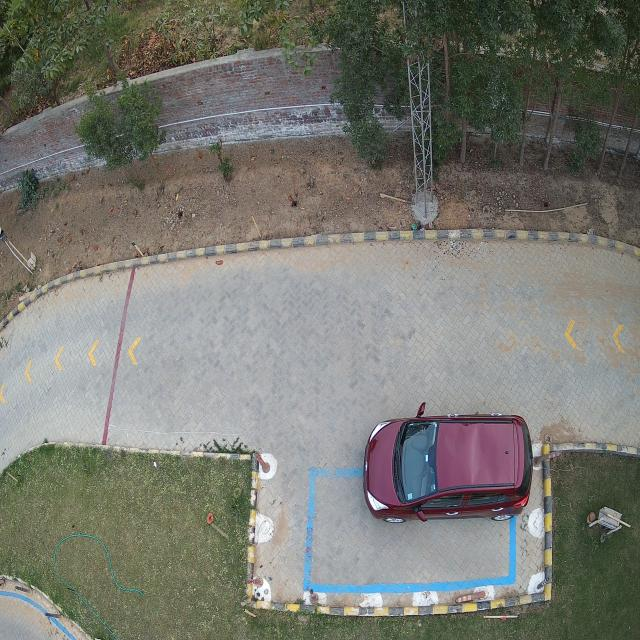car: (362, 408, 534, 523)
